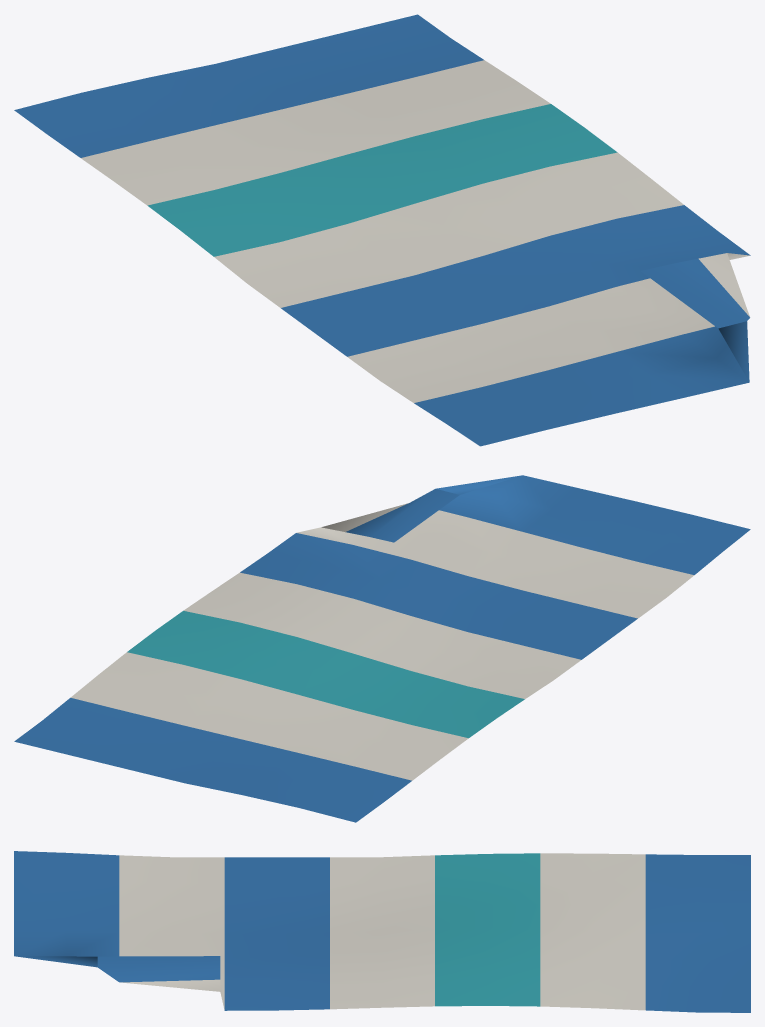
File: beach-towel-a.glb
The picture shows the model from 3 angles, top to bottom: view 1: azimuth 30°, elevation 25°; view 2: azimuth 150°, elevation 25°; view 3: azimuth 270°, elevation 25°; orthographic projection. The views are drawn at different scales.
Visible parts, largest first — view 1: beach-towel-a; view 2: beach-towel-a; view 3: beach-towel-a.
Part boxes in pixels (x1,y1,x2,y2): beach-towel-a: (14, 14, 750, 446); beach-towel-a: (14, 475, 750, 822); beach-towel-a: (14, 851, 750, 1012).
Bounding box in the file's own units: 0.9 × 0.0357 × 1.8.
